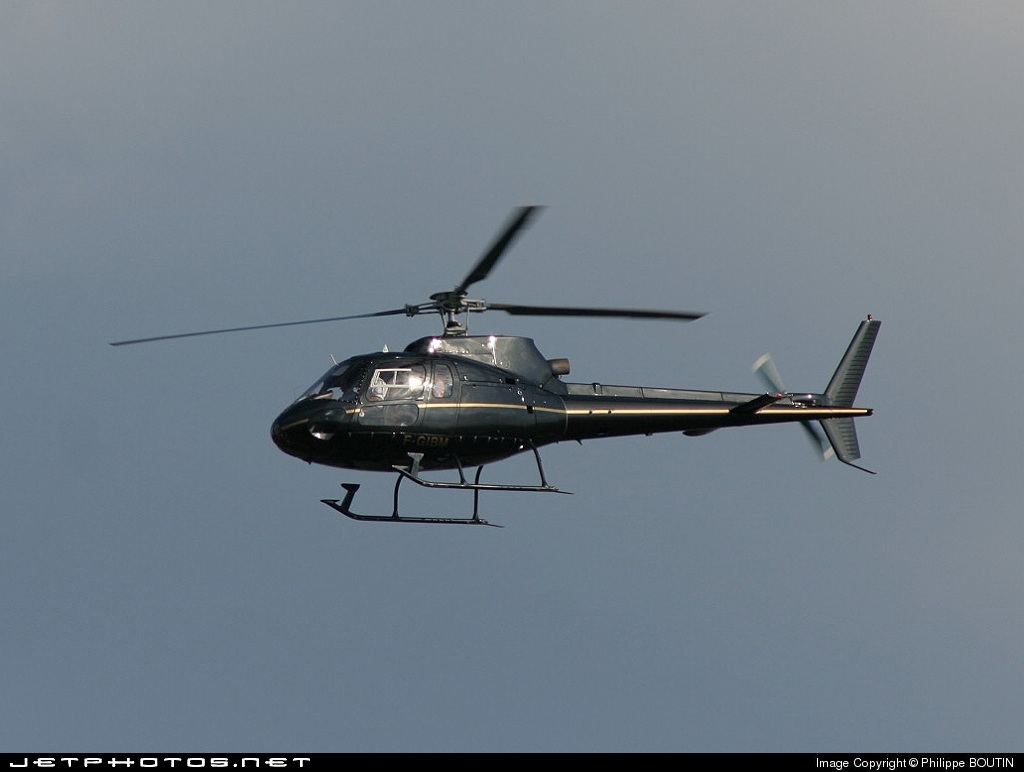number: (401, 431, 455, 451)
